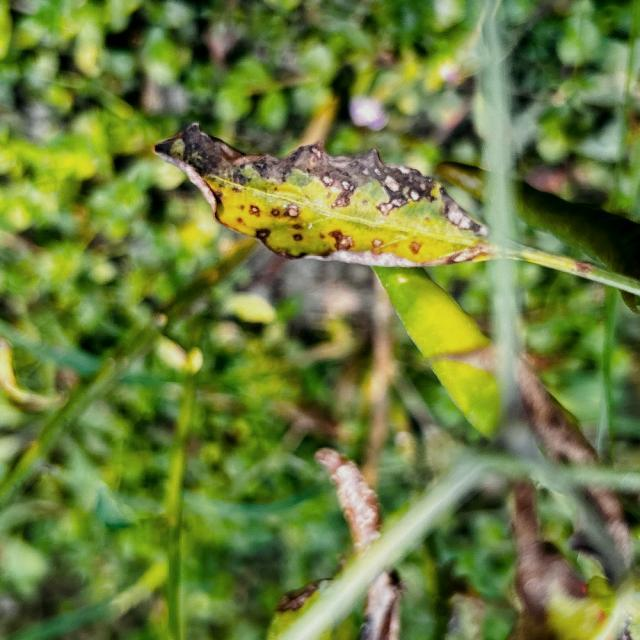Bercak Daun Serkospora: (148, 118, 490, 268)
